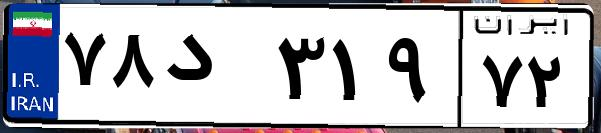1: (330, 28, 385, 110)
2: (525, 38, 570, 115)
3: (270, 28, 330, 110)
7: (57, 26, 110, 100), (475, 38, 525, 113)
8: (110, 28, 158, 98)
9: (385, 28, 445, 110)
د: (158, 20, 270, 120)
